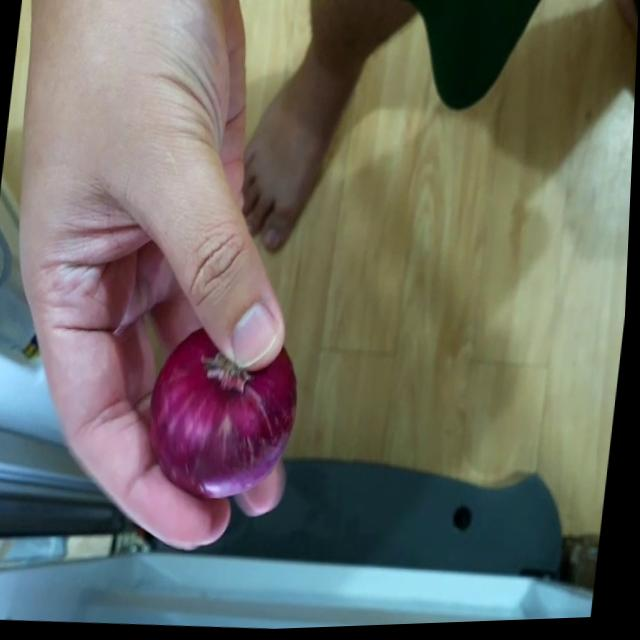onion: (147, 323, 315, 518)
